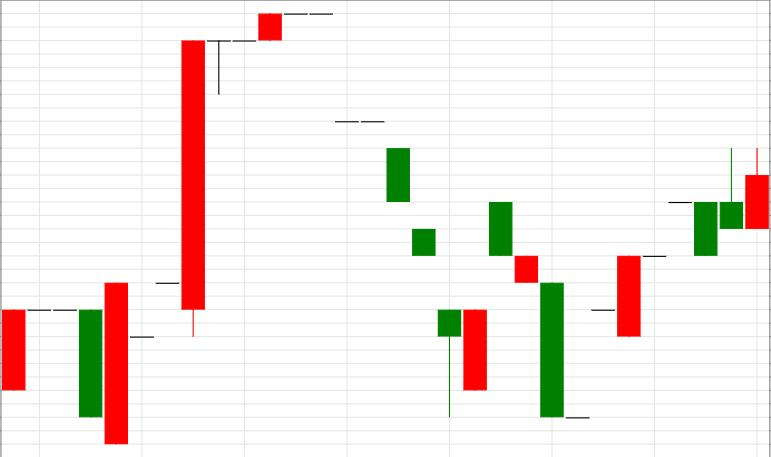hammer_rise: (258, 13, 460, 416)
